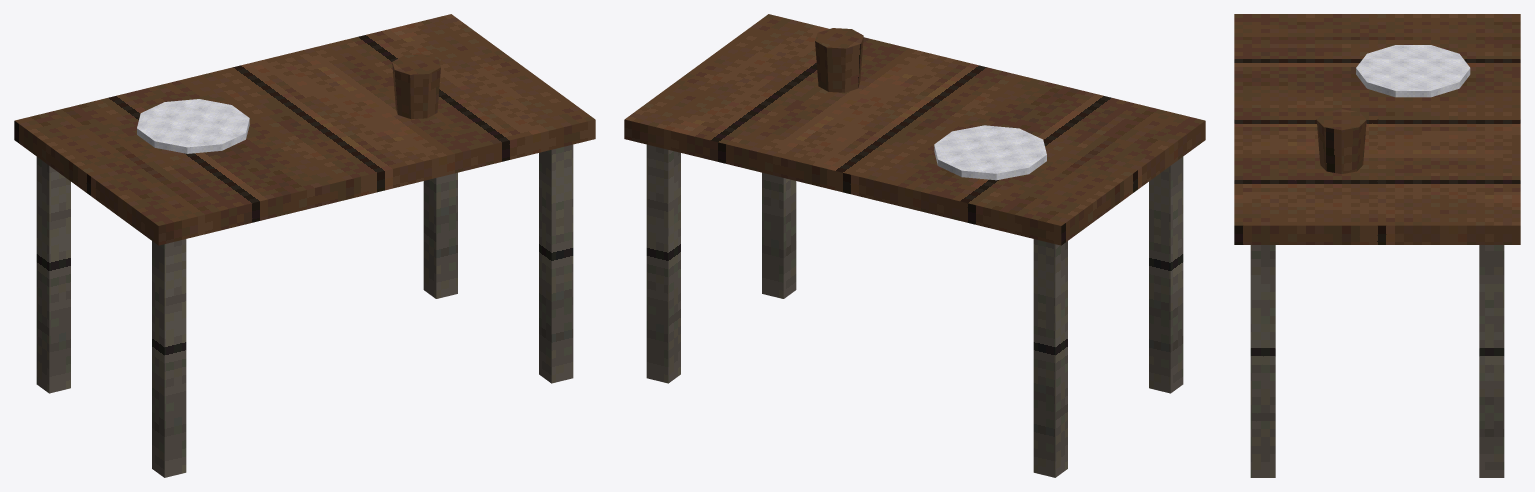
Rendered from mesa_cocina.obj.
3 views of the same model, side by side, from view 1: azimuth 30°, elevation 25°; view 2: azimuth 150°, elevation 25°; view 3: azimuth 270°, elevation 25° (orthographic).
Parts seen in each view (by area): view 1: mesa_cocina; view 2: mesa_cocina; view 3: mesa_cocina.
Boxes of the visible parts, box(x1,y1,x2,y2) form: mesa_cocina: box(14, 14, 595, 477); mesa_cocina: box(624, 14, 1205, 477); mesa_cocina: box(1234, 14, 1520, 477).
Size of the model in its own units: 1.4 by 0.94 by 0.8.
3 materials, 3 textured.
